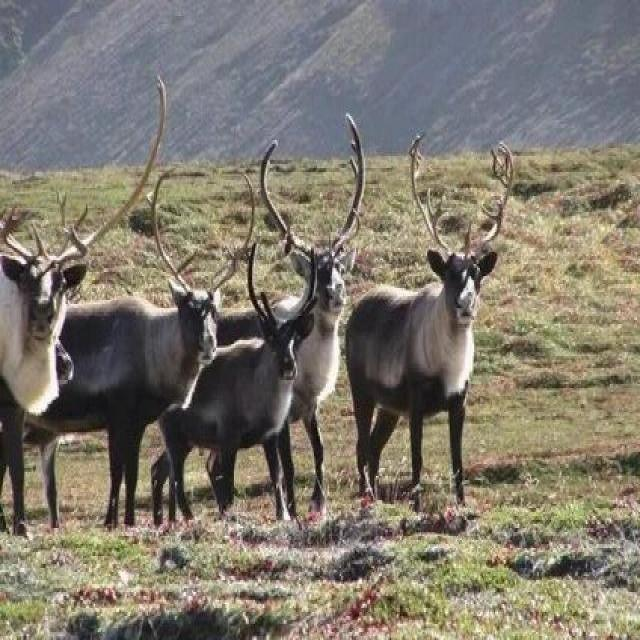deer: (312, 150, 549, 521), (40, 219, 257, 486), (238, 164, 374, 513), (0, 189, 146, 488), (190, 296, 346, 475)
